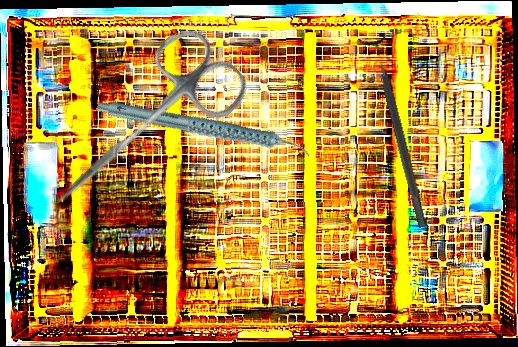Fixation Ring: (356, 31, 438, 232)
Handpiece: (94, 58, 313, 203)
Iris Scissors: (27, 17, 256, 241)
